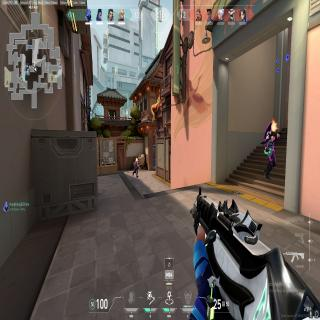ENEMY-BODY: (264, 120, 278, 181), (134, 156, 139, 178)
ENEMY-HEAD: (271, 123, 276, 132), (136, 157, 137, 161)
